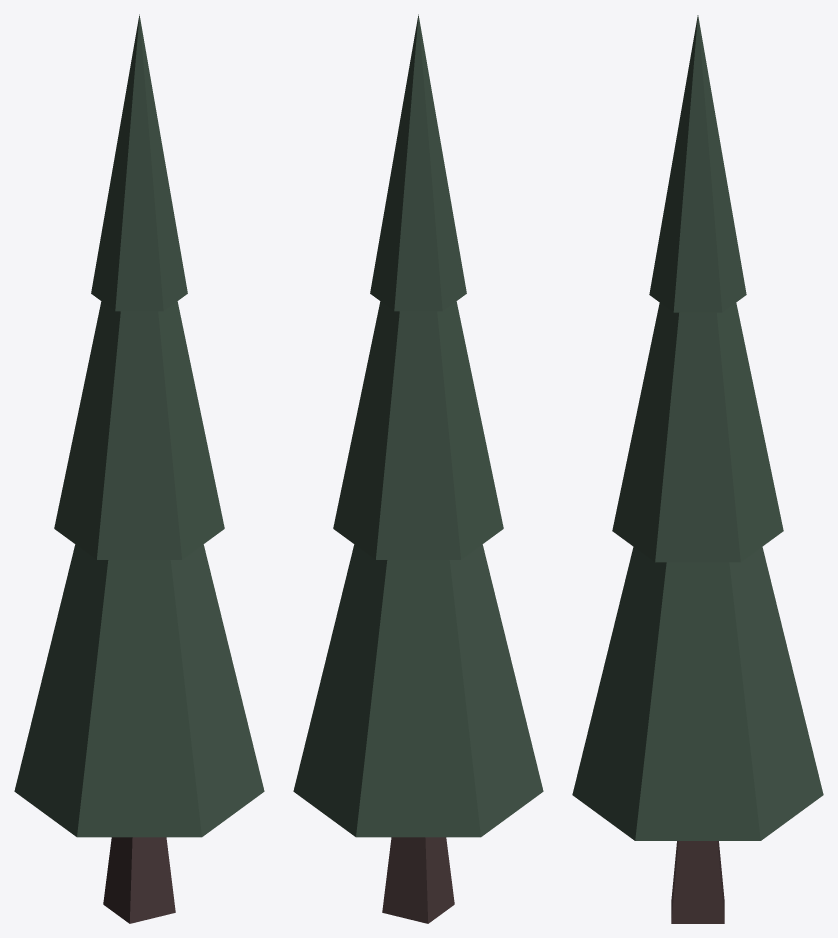
The model's file is pine-tall.dae.
3 views of the same model, side by side, from view 1: azimuth 30°, elevation 25°; view 2: azimuth 150°, elevation 25°; view 3: azimuth 270°, elevation 25° (orthographic).
Visible parts, largest first — view 1: Cone_001, Cone_002, Cone_003, Cube; view 2: Cone_001, Cone_002, Cone_003, Cube; view 3: Cone_001, Cone_002, Cone_003, Cube.
Boxes of the visible parts, x1,y1,x2,y2 form: Cone_001: (14, 544, 264, 837); Cone_002: (54, 301, 224, 559); Cone_003: (91, 14, 187, 311); Cube: (103, 837, 175, 923); Cone_001: (293, 544, 543, 837); Cone_002: (333, 301, 503, 559); Cone_003: (370, 14, 466, 311); Cube: (382, 837, 454, 923); Cone_001: (572, 547, 823, 840); Cone_002: (612, 303, 783, 562); Cone_003: (649, 15, 746, 312); Cube: (671, 841, 724, 923).
Size of the model in its own units: 3.01 by 3.48 by 13.72.
